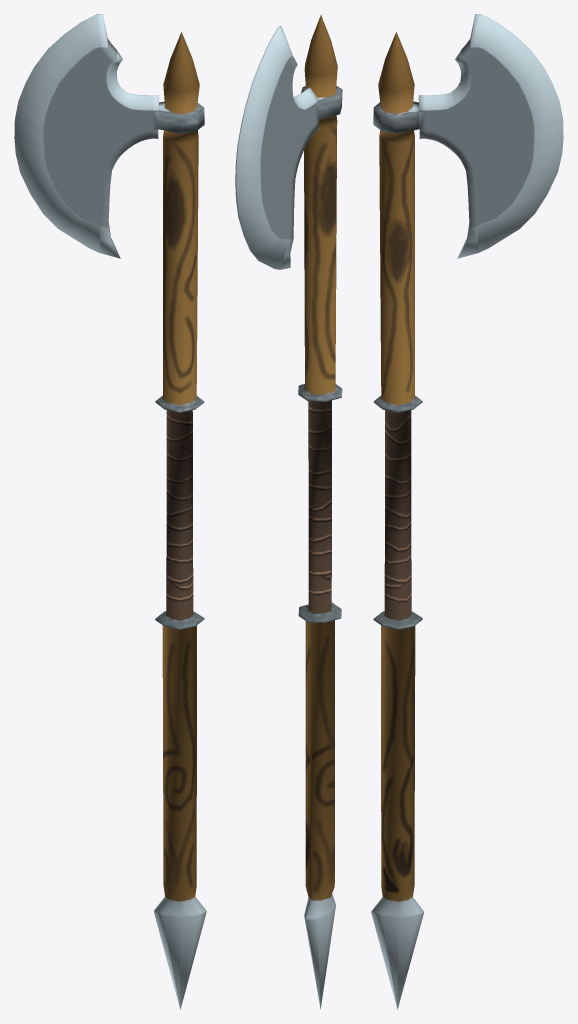
The model's file is axeV4.fbx.
The picture shows the model from 3 angles, left to right: view 1: azimuth 90°, elevation 25°; view 2: azimuth 150°, elevation 25°; view 3: azimuth 270°, elevation 25°; orthographic projection.
Parts seen in each view (by area): view 1: axeV4; view 2: axeV4; view 3: axeV4.
Part boxes in pixels (left/top/right/bottom): axeV4: left=14, top=14, right=206, bottom=1009; axeV4: left=235, top=14, right=342, bottom=1008; axeV4: left=371, top=14, right=563, bottom=1009.
Size of the model in its own units: 7.54 by 169 by 29.58.
